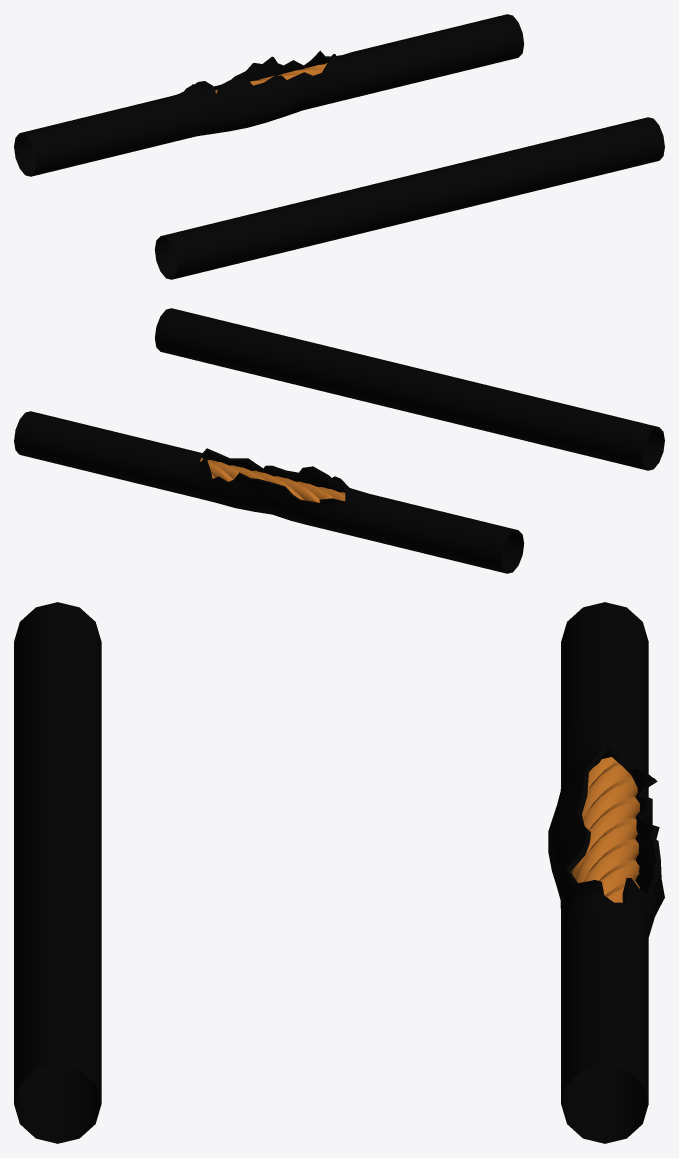
The model's file is cavi_minigame.fbx.
3 renders of one model, top to bottom at view 1: azimuth 30°, elevation 25°; view 2: azimuth 150°, elevation 25°; view 3: azimuth 270°, elevation 25°, orthographic. The views are drawn at different scales.
Parts seen in each view (by area): view 1: BézierCurve.001, BézierCurve; view 2: BézierCurve.001, BézierCurve; view 3: BézierCurve.001, BézierCurve.
Part boxes in pixels (bbox=[...]): BézierCurve.001: bbox=[14, 14, 524, 176]; BézierCurve: bbox=[154, 117, 664, 279]; BézierCurve.001: bbox=[14, 411, 524, 573]; BézierCurve: bbox=[154, 308, 664, 470]; BézierCurve.001: bbox=[548, 602, 664, 1143]; BézierCurve: bbox=[14, 602, 101, 1143].
Size of the model in its own units: 200 by 20.86 by 119.
